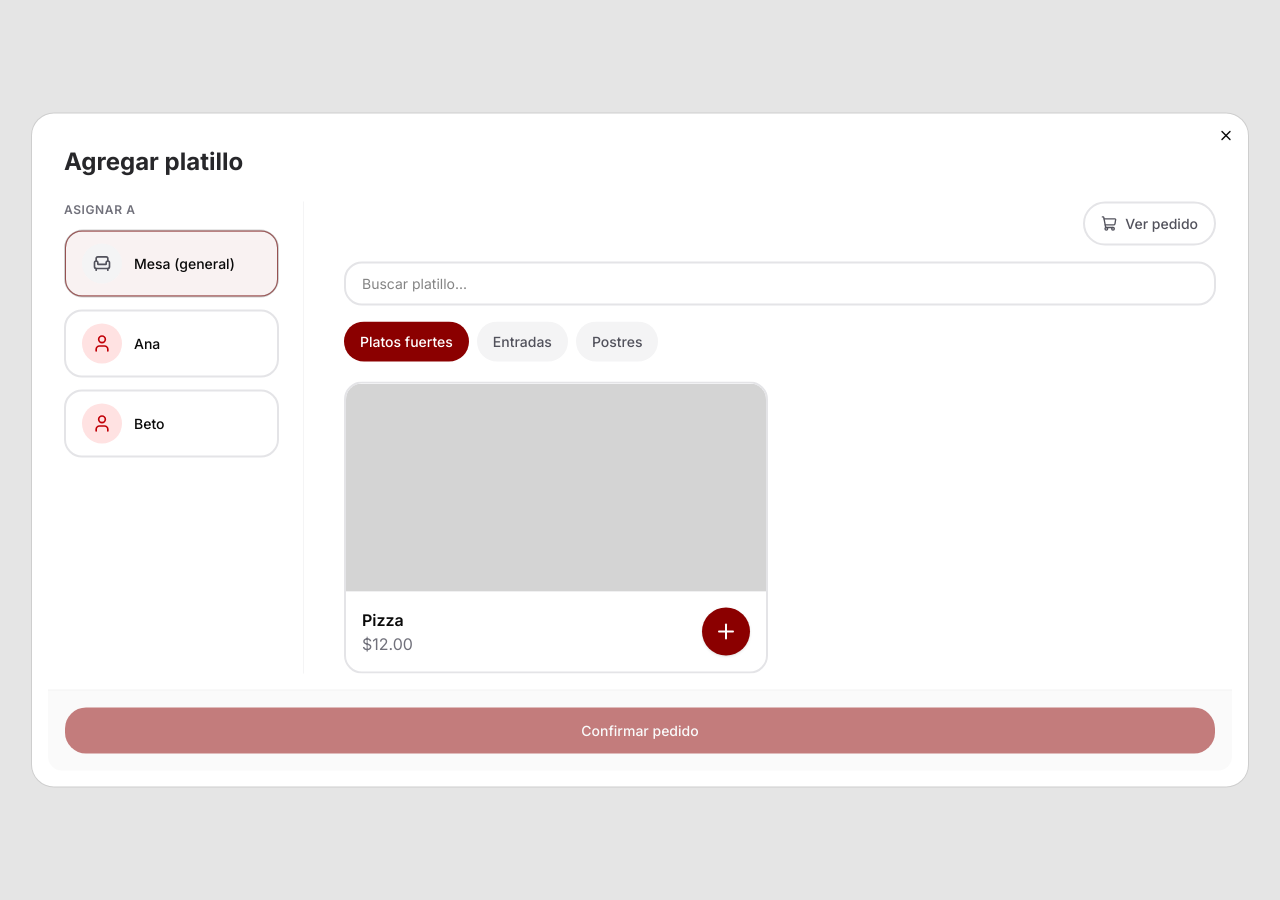
Test: AddItemModal › an item with modifier groups opens a picker before it reaches the cart
Expected: the text "Pizza" is shown, [362,610,404,630]
Click the button "Postres".
click(617, 342)  # box [576,322,658,362]
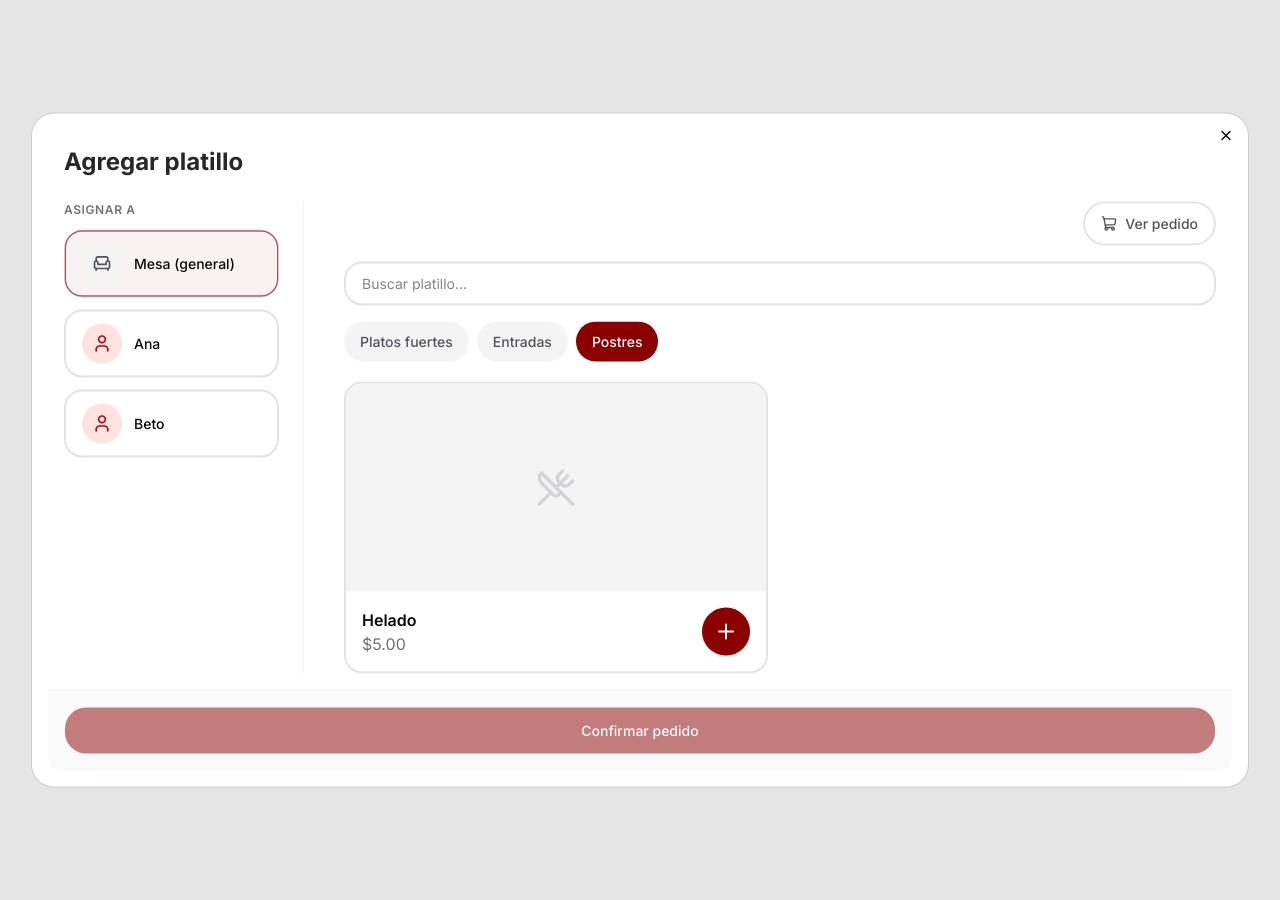
Now the text "Helado" is shown, box [362,608,416,632]
Click the button named "Agregar Helado".
click(726, 632)  # box [702,608,750,656]
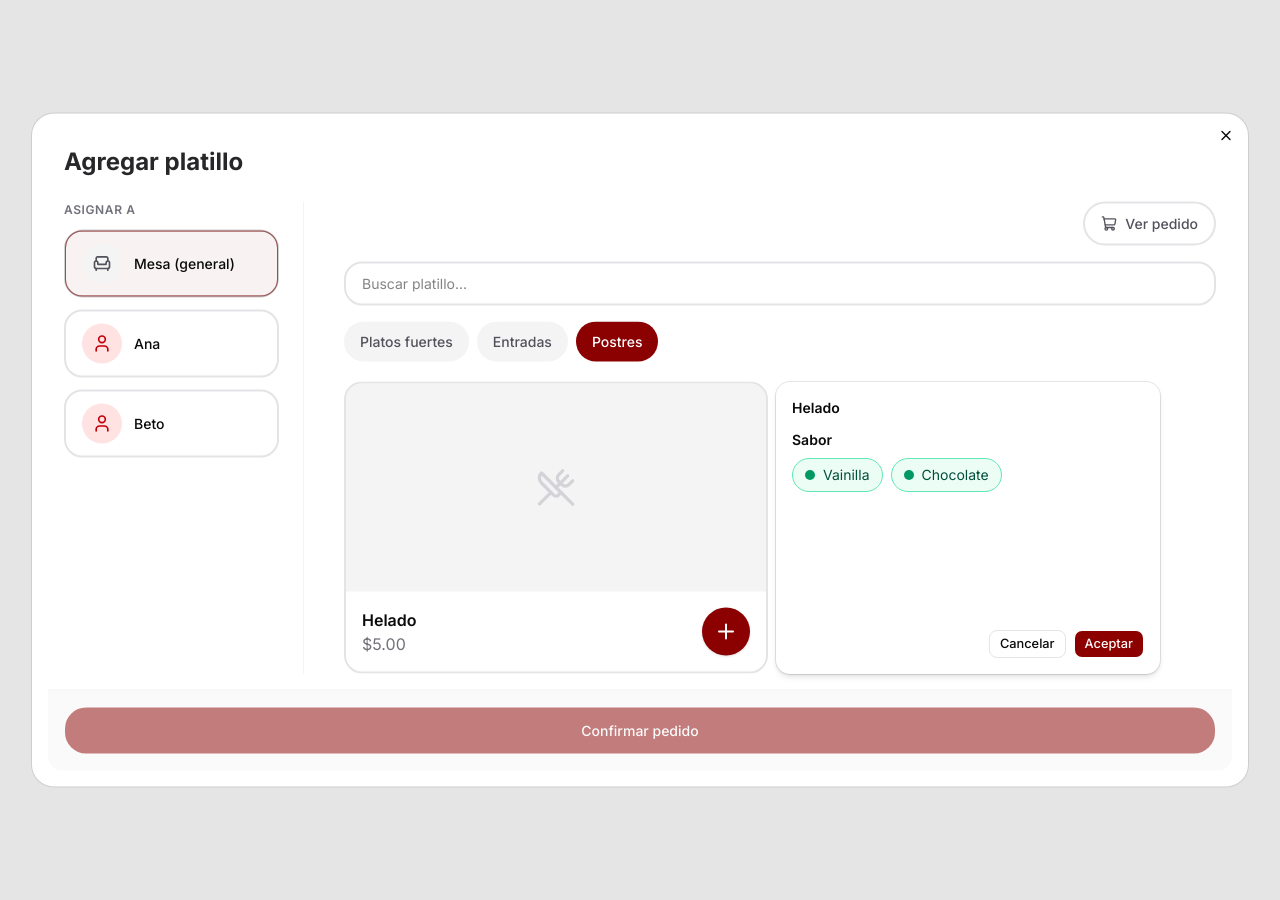
Now the dialog with test id "modifiers-panel" is shown, box [776,382,1160,674]
Click the radio button "Chocolate".
click(946, 475)  # box [890,458,1002,492]
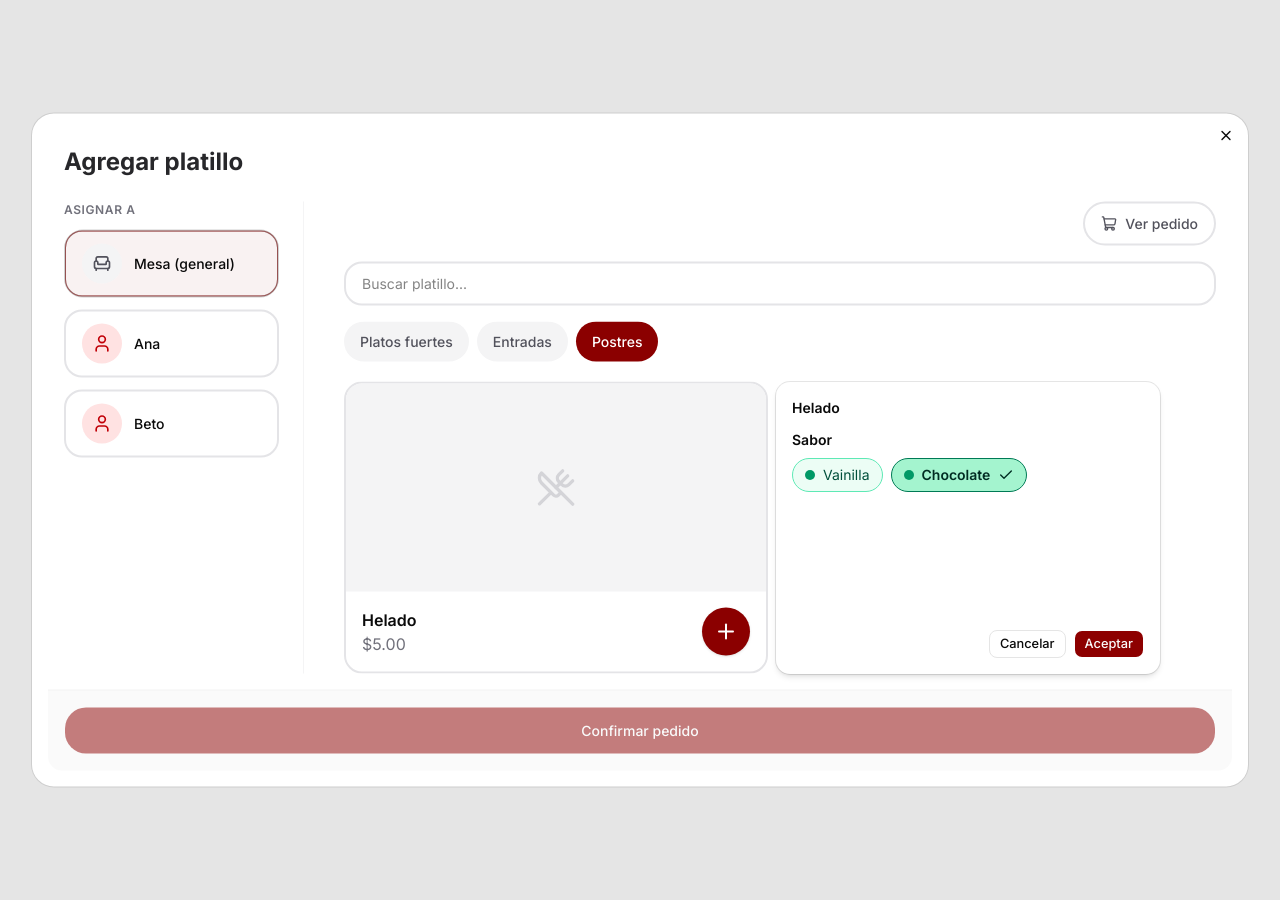
Click the button "Aceptar".
click(1109, 644)  # box [1074,630,1144,658]
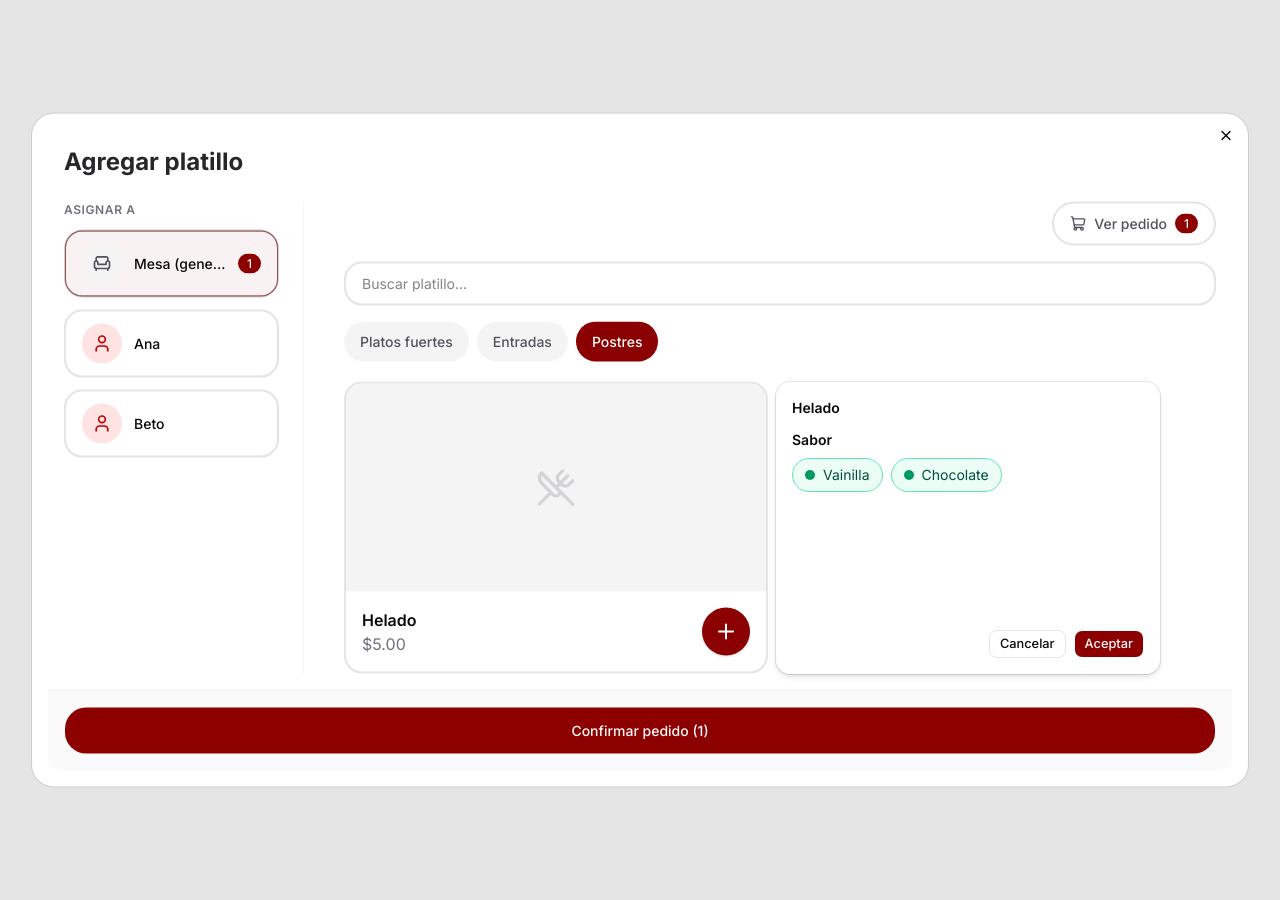
Click the button "Ver pedido 1".
click(1134, 224)  # box [1052,202,1216,246]
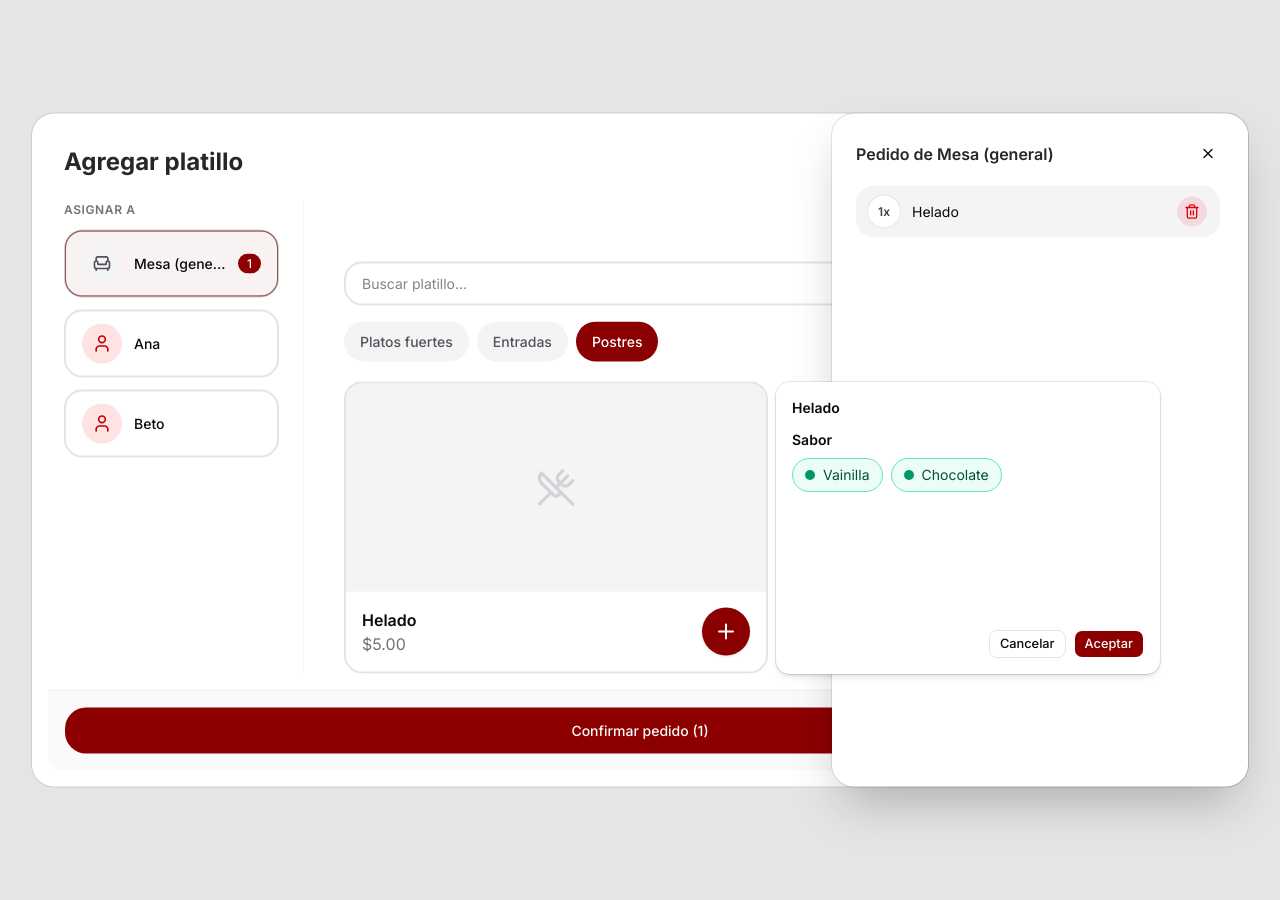
Now the text "Helado" below "Pedido de Mesa (general)" is shown, box [912,202,959,220]
